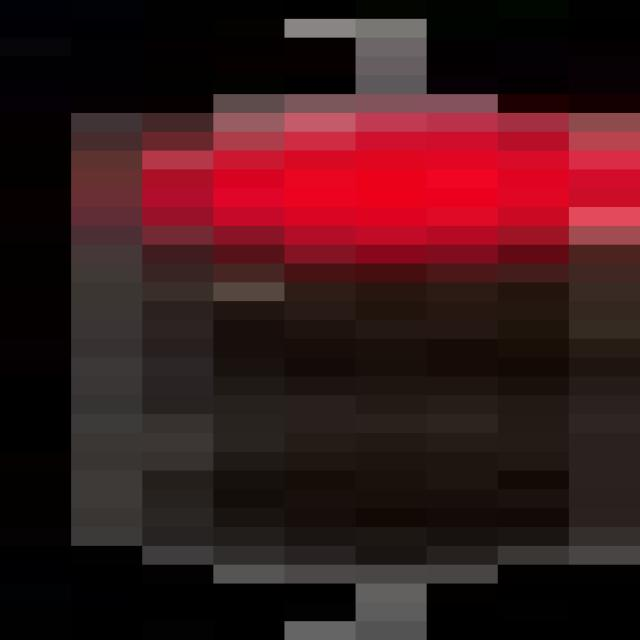red_light: (35, 92, 640, 602)
